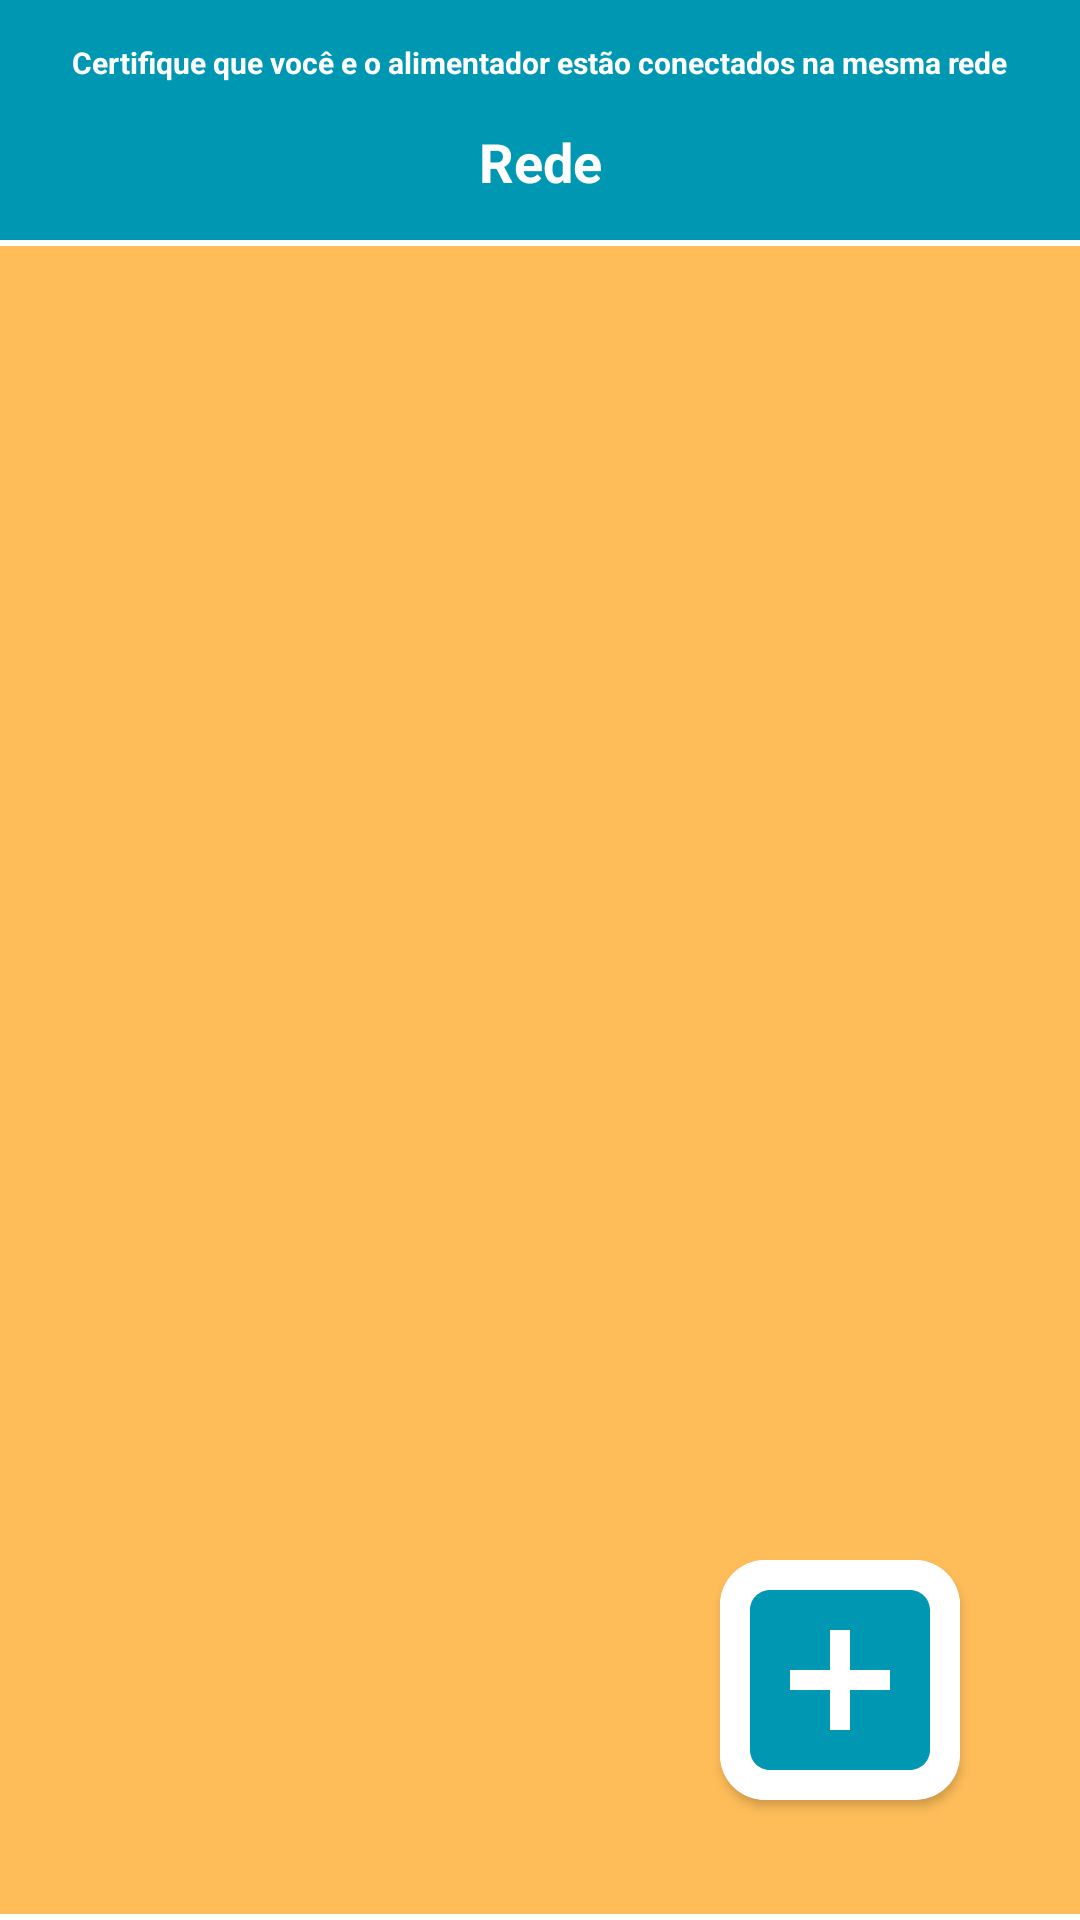

Where to tap for icons on this 1080px×1920px app screen, as point (x, y):
adicionar: point (840, 1680)
